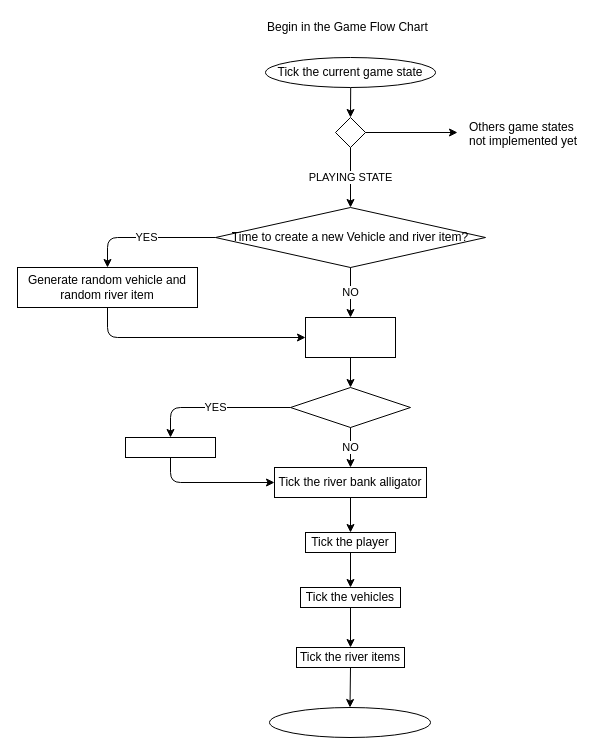
The diagram is 615 pixels wide and 755 high, and some of its shapes have lost their labels. The centre of each missing label's shape, as x and y in pixels:
Back to Game tick() method: (349,722)
Evaluate player position: (350,337)
Increase score: (170,447)
Upgrade score?: (350,407)
